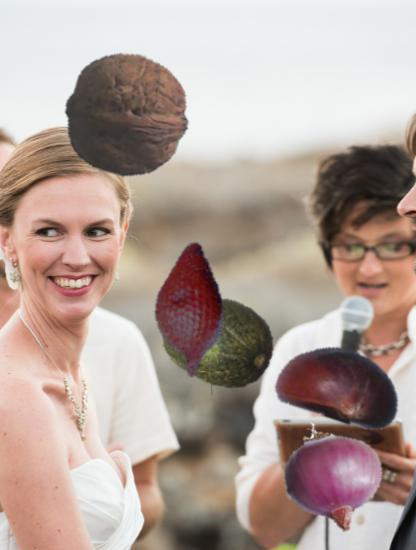Chestnut: (276, 320, 405, 449)
Melon: (162, 289, 275, 402)
Onion: (273, 415, 394, 536)
Salak: (120, 242, 258, 380)
Walnut: (64, 51, 192, 179)
